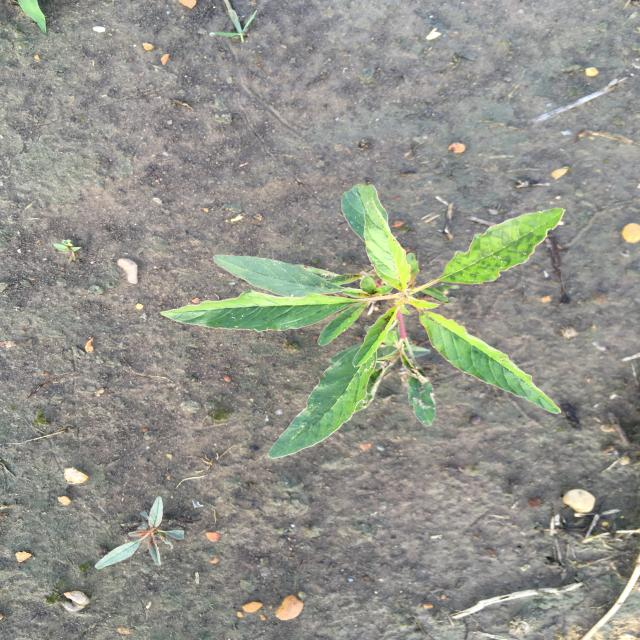Waterhemp: (156, 180, 569, 461)
